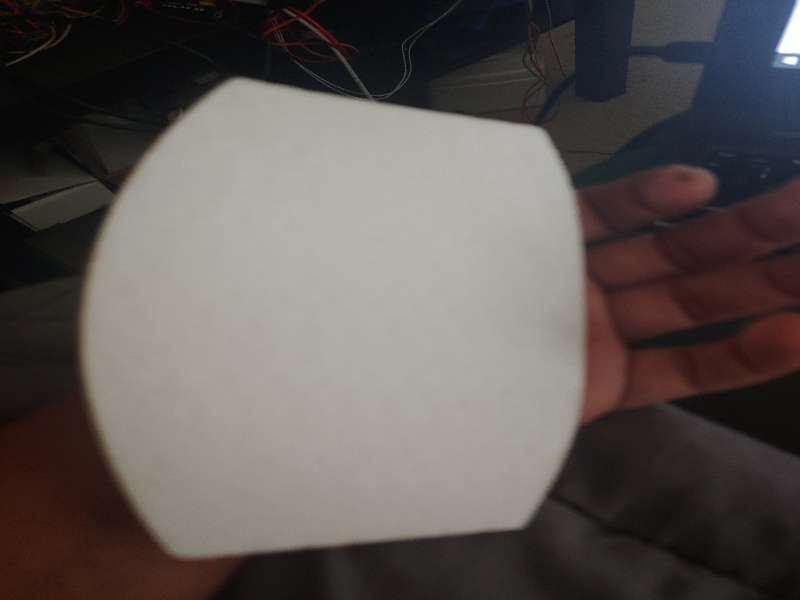Filter: (80, 78, 590, 562)
